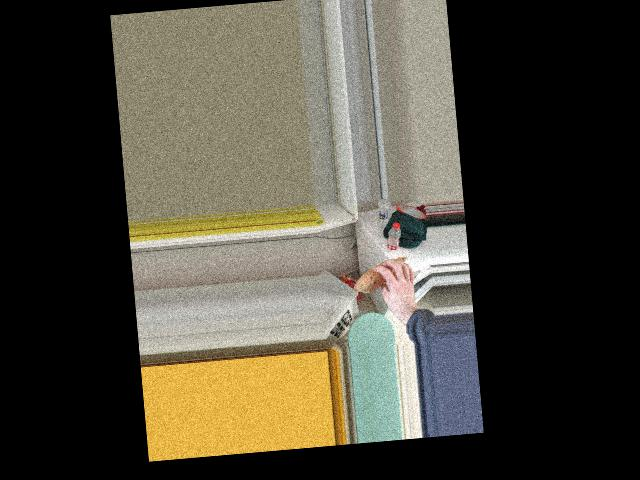sweet_potato: (353, 256, 412, 293)
